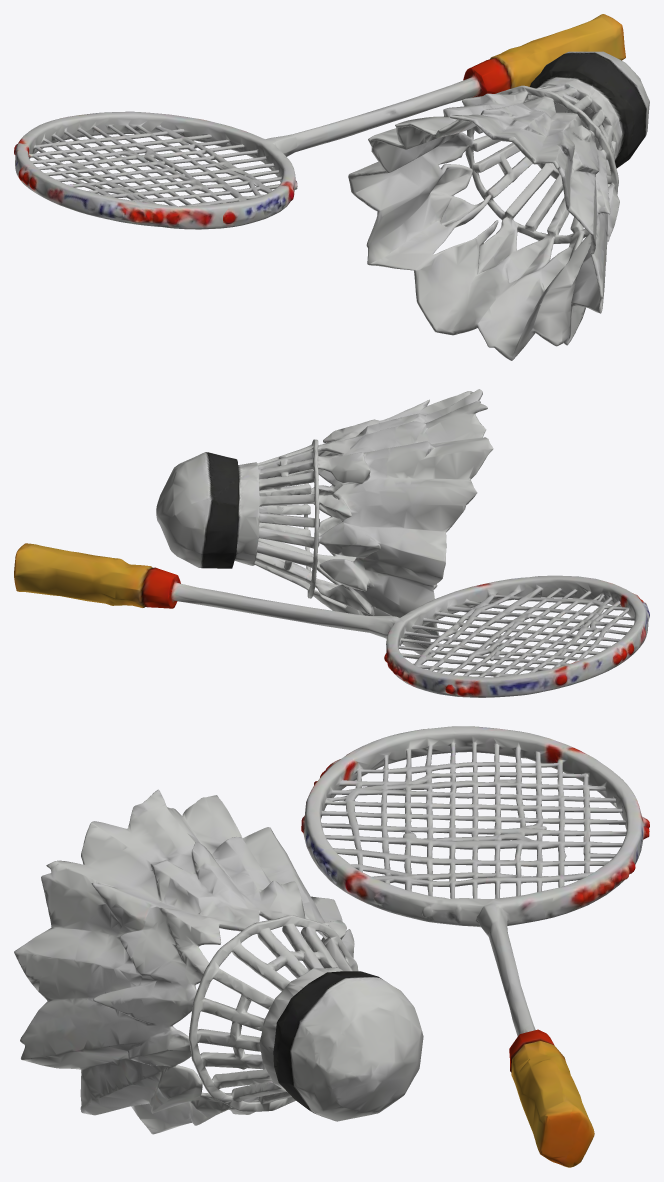
The model's file is racket.glb.
3 renders of one model, top to bottom at view 1: azimuth 30°, elevation 25°; view 2: azimuth 150°, elevation 25°; view 3: azimuth 270°, elevation 25°, orthographic. The views are drawn at different scales.
Parts seen in each view (by area): view 1: tripo_node_6f75f672-c6d3-42e5-9e2d-d548a8bacc09; view 2: tripo_node_6f75f672-c6d3-42e5-9e2d-d548a8bacc09; view 3: tripo_node_6f75f672-c6d3-42e5-9e2d-d548a8bacc09.
Boxes of the visible parts, x1,y1,x2,y2 form: tripo_node_6f75f672-c6d3-42e5-9e2d-d548a8bacc09: (14, 14, 649, 360); tripo_node_6f75f672-c6d3-42e5-9e2d-d548a8bacc09: (14, 389, 649, 697); tripo_node_6f75f672-c6d3-42e5-9e2d-d548a8bacc09: (14, 726, 649, 1167).
Size of the model in its own units: 0.9999 by 0.3956 by 0.7353.
1 material, 1 textured.
